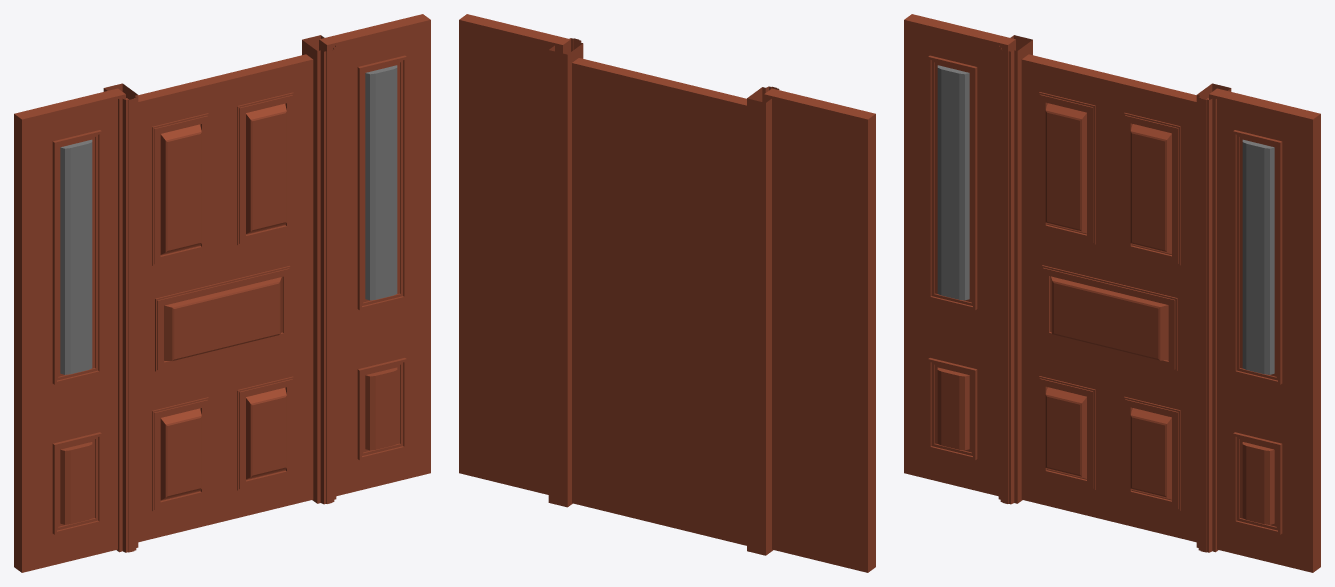
Rendered from SM_door_07.fbx.
The picture shows the model from 3 angles, left to right: view 1: azimuth 30°, elevation 25°; view 2: azimuth 150°, elevation 25°; view 3: azimuth 330°, elevation 25°; orthographic projection.
Parts seen in each view (by area): view 1: Box044; view 2: Box044; view 3: Box044.
Boxes of the visible parts, x1,y1,x2,y2 form: Box044: [14, 14, 430, 572]; Box044: [459, 14, 875, 572]; Box044: [904, 14, 1320, 572].
Size of the model in its own units: 82.81 by 88.08 by 6.94.
